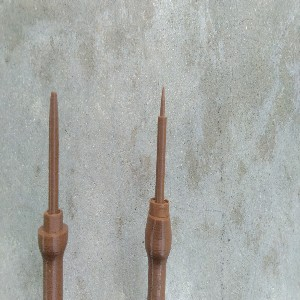obeng: (38, 90, 69, 300)
solder: (144, 85, 173, 300)
